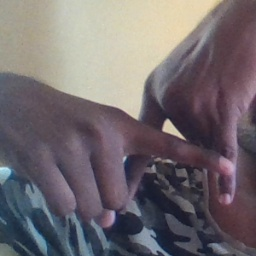H: (104, 83, 243, 213)
